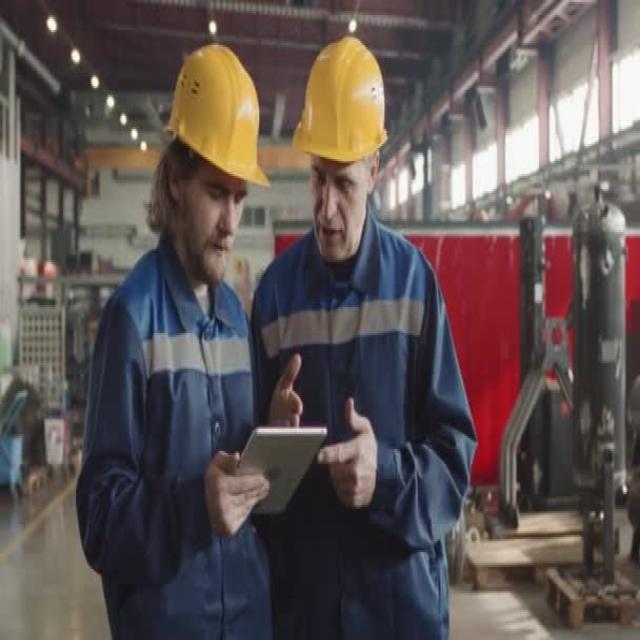bare_hand: (318, 389, 382, 522), (198, 443, 272, 540), (265, 356, 311, 431)
